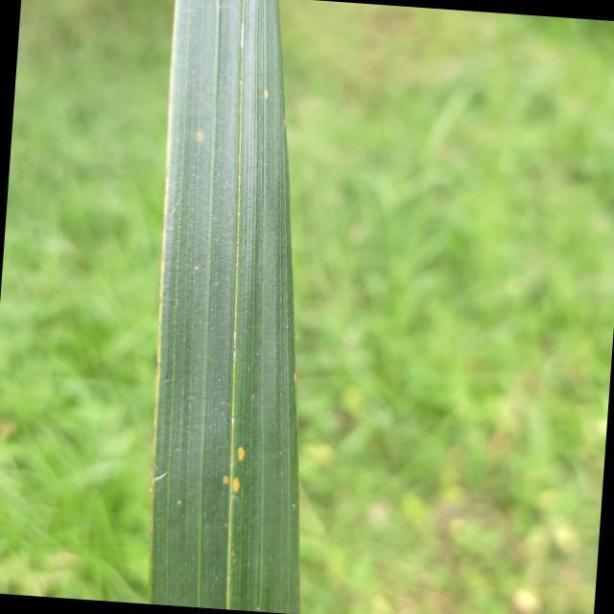Boron: (144, 0, 293, 614)
